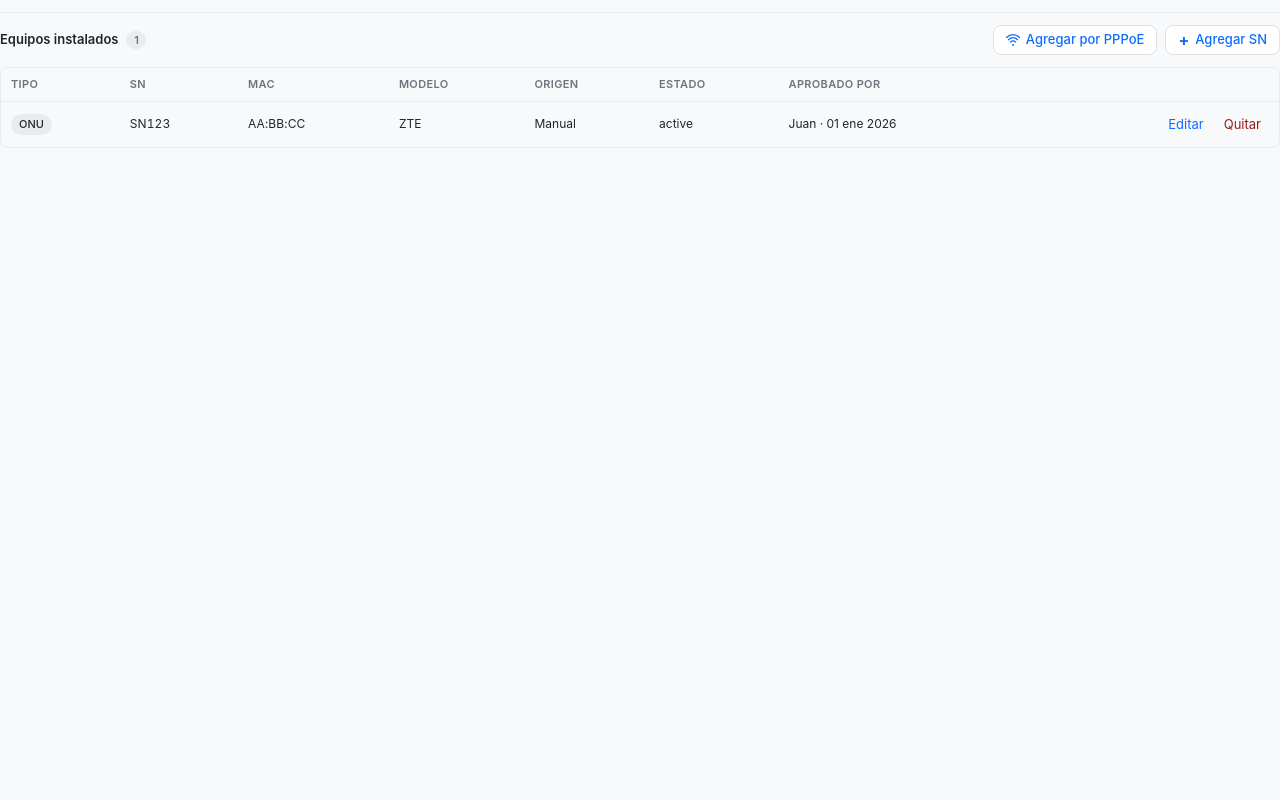
Test: ServiceInventorySection › opens the add modal when clicking "Agregar SN"
Click the button "+ Agregar SN" at (1223, 40), box [1165,25,1279,55]
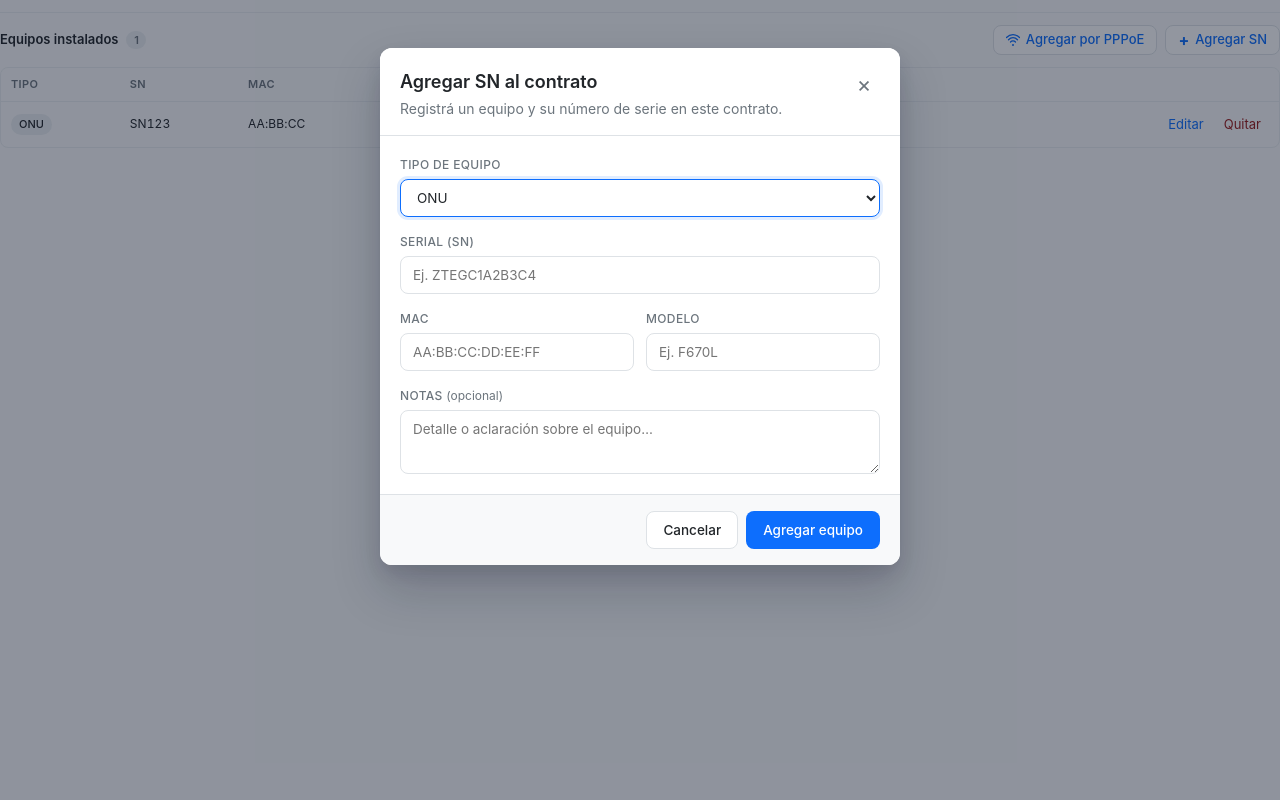
Now the heading "Agregar SN al contrato" is shown, box [400,71,598,92]
